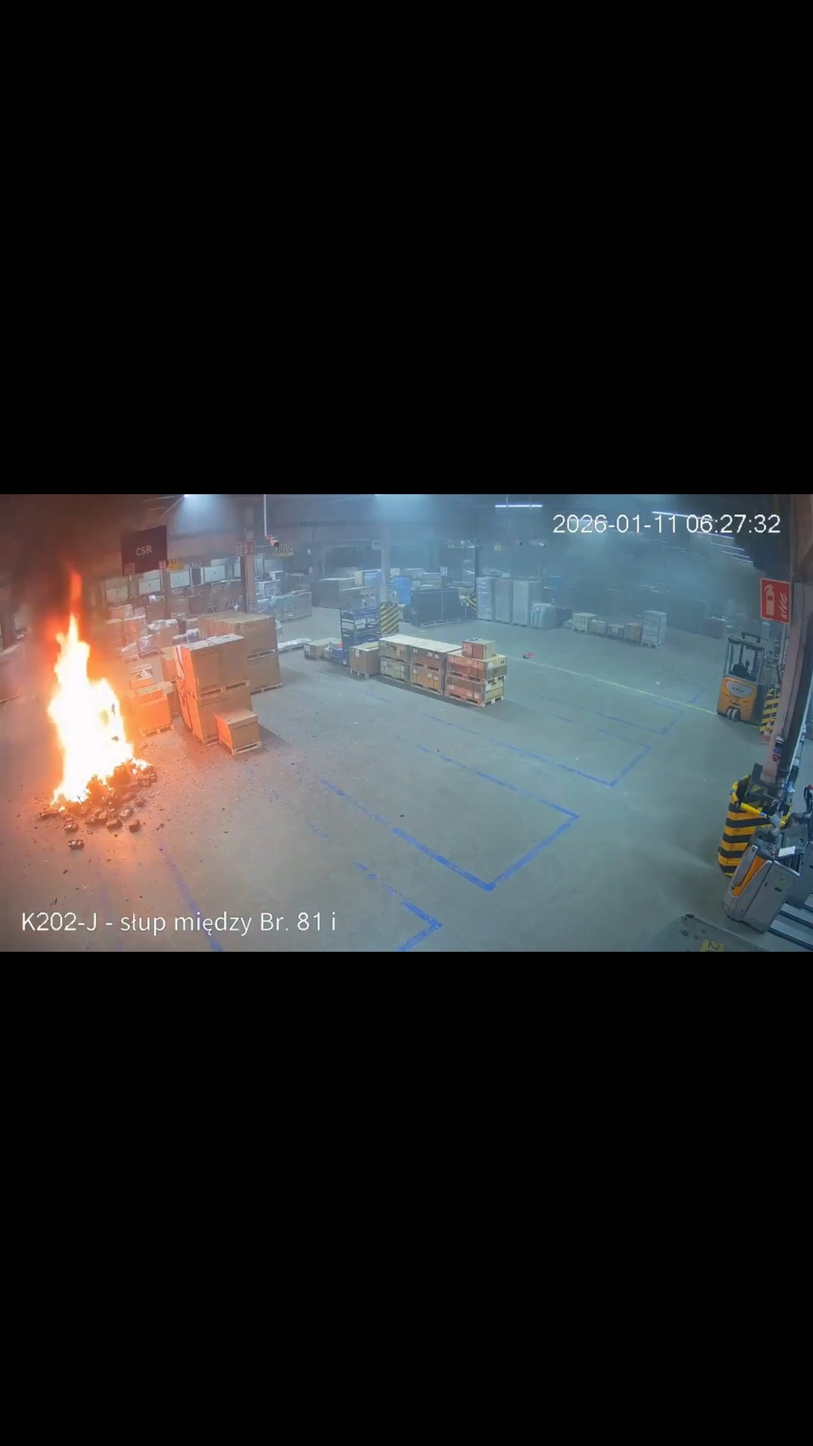fire: (45, 569, 151, 812)
smoke: (0, 496, 132, 639)
